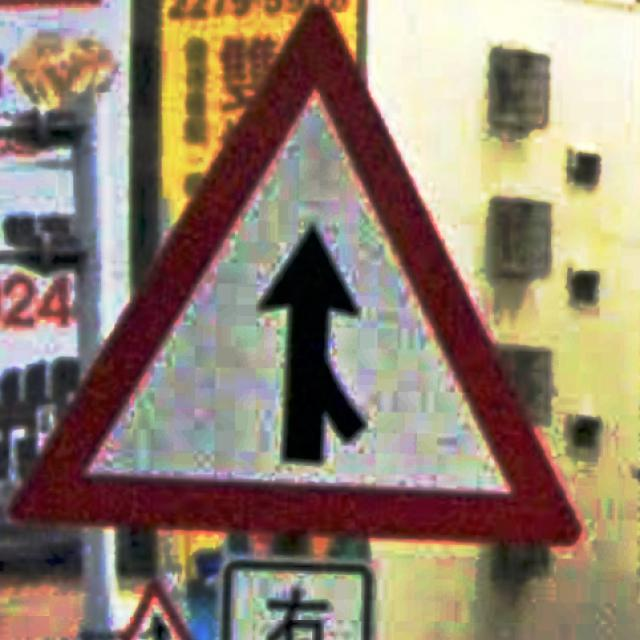rightmerge: (11, 7, 583, 546)
